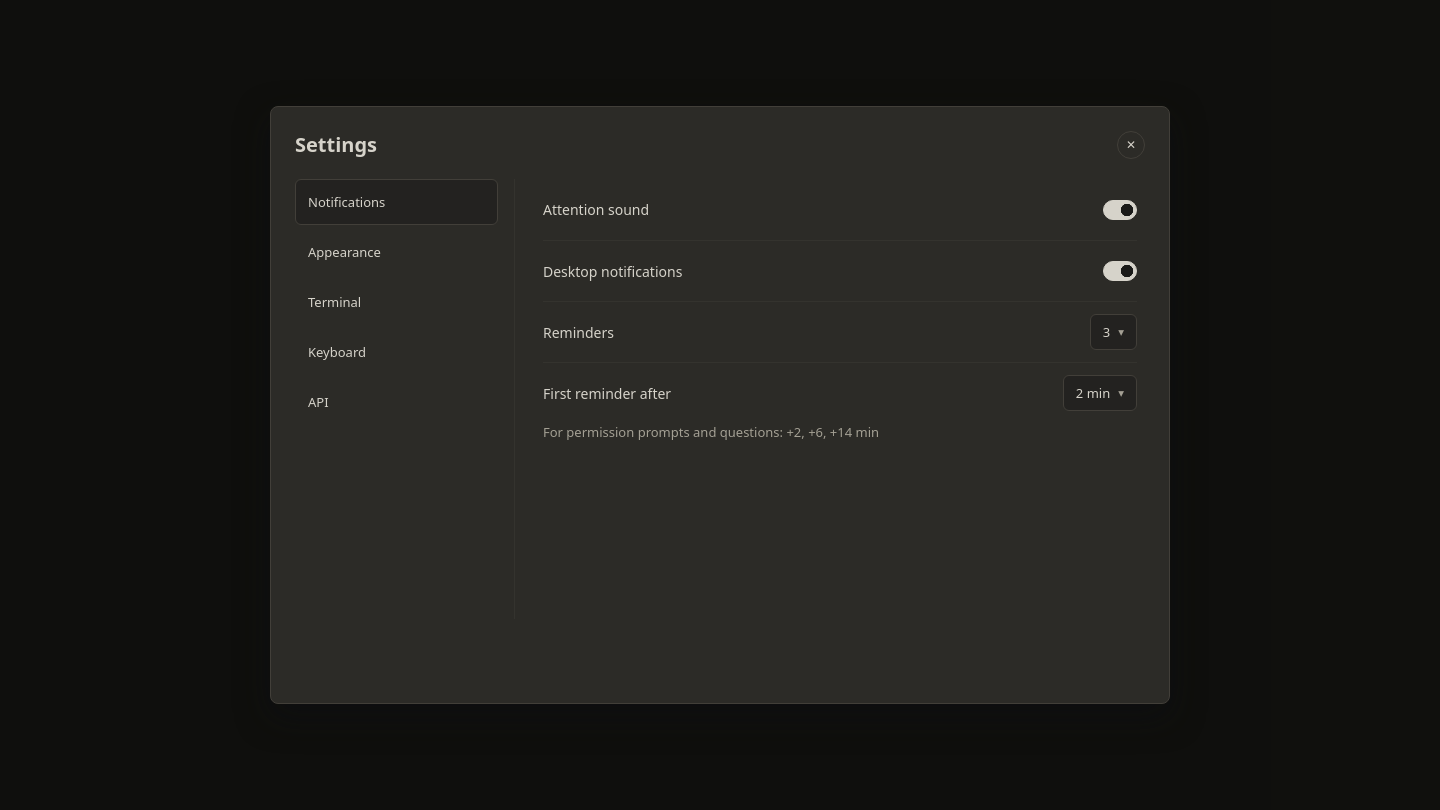
Test: Settings — one error line, and ✓ Saved stays where it belongs (review fixes) › ✓ Saved does not follow a switch to another category
Click the switch with test id "settings-sound-toggle". click: (1120, 210)
box: 1103,200 -> 1137,220
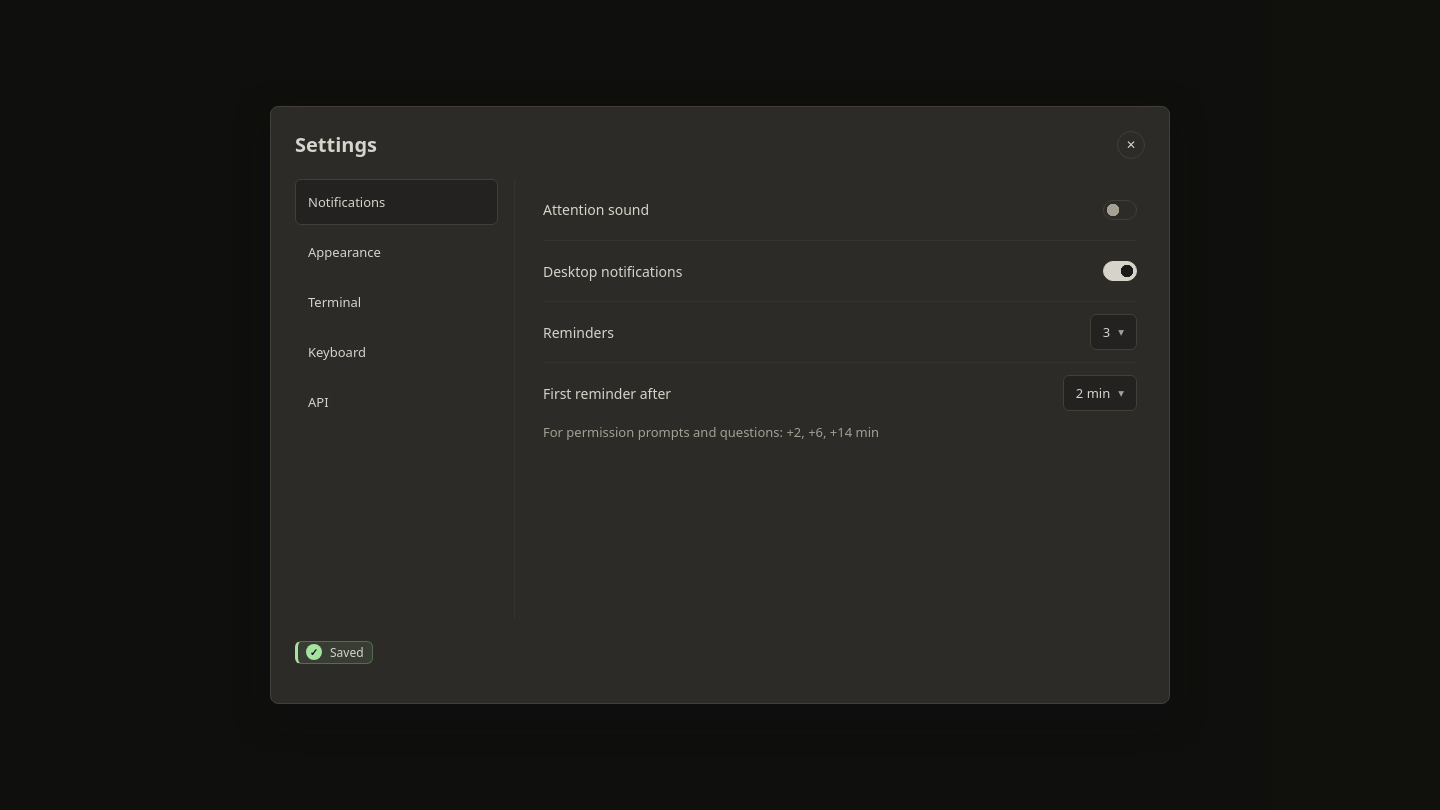
Expected: the element with test id "settings-success" reads "Saved", 330,644 -> 364,660
Click the button "Terminal". click: (396, 302)
box: 296,280 -> 497,324
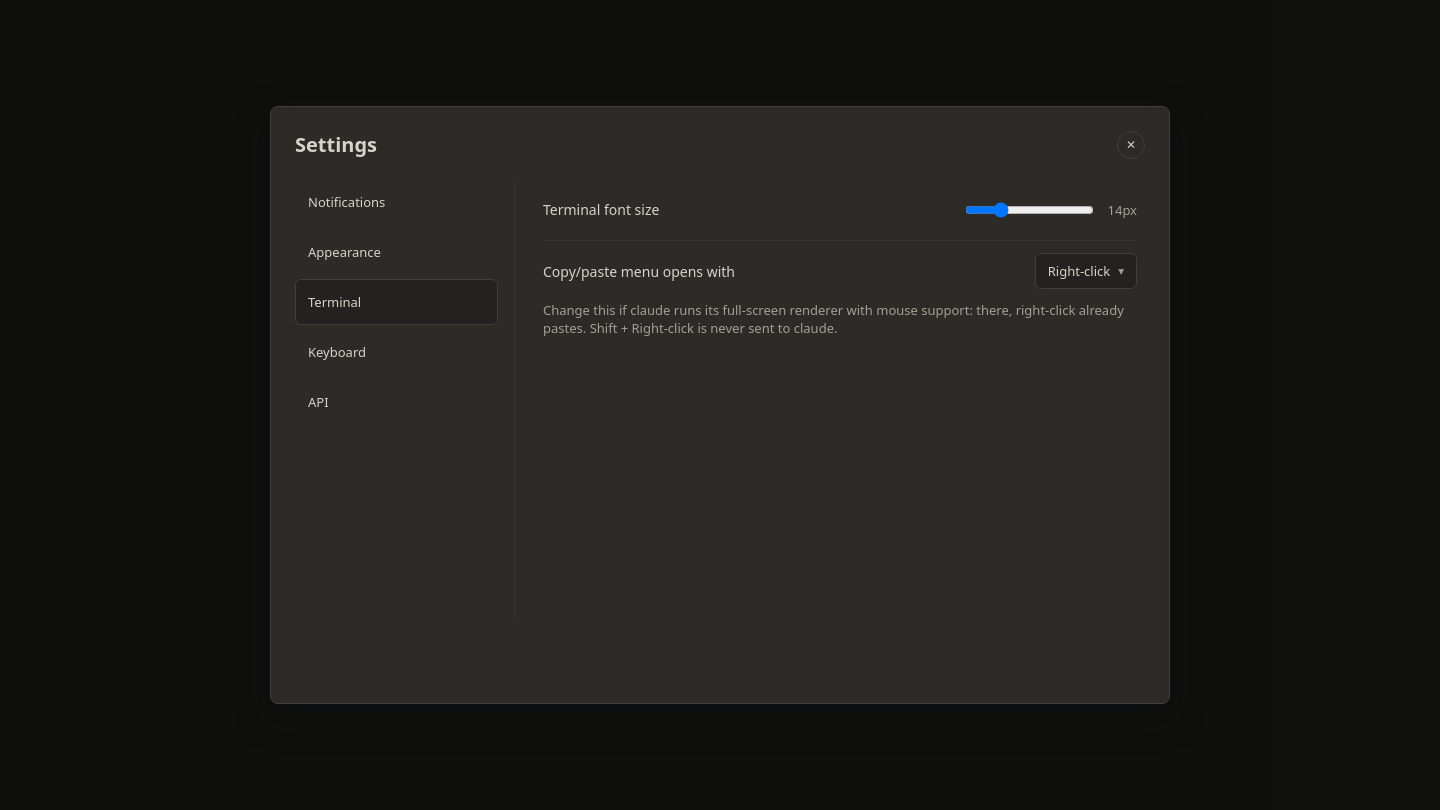
Expected: the element with test id "settings-success" is gone
